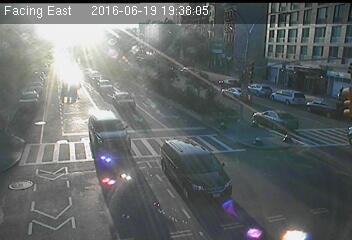neg: (61, 203, 85, 234), (115, 114, 138, 145), (282, 124, 304, 154), (52, 58, 74, 88), (167, 69, 187, 97), (84, 149, 104, 176), (40, 104, 60, 131), (260, 67, 279, 93), (100, 52, 119, 76), (214, 149, 232, 173), (27, 137, 44, 161), (226, 193, 243, 216), (279, 187, 296, 210), (210, 65, 226, 87), (29, 168, 45, 189), (119, 171, 134, 190), (261, 129, 274, 147), (177, 160, 188, 174)
